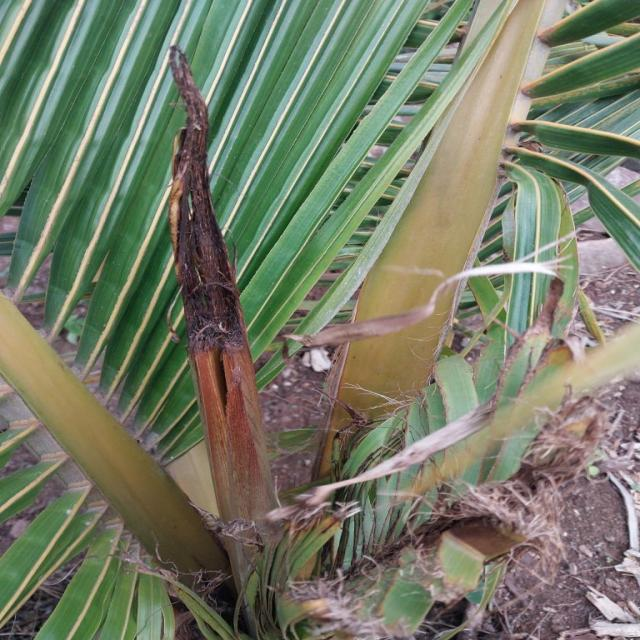bud rot: (170, 46, 275, 524)
